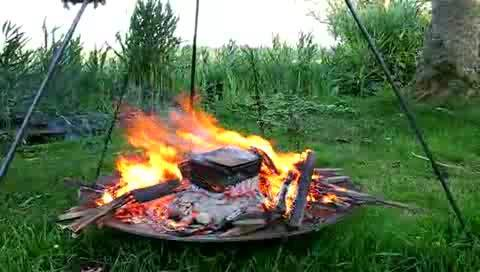fire: (114, 104, 306, 211)
